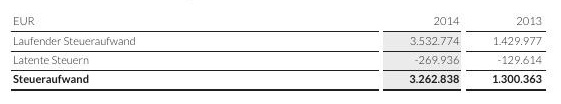table: (0, 0, 561, 104)
